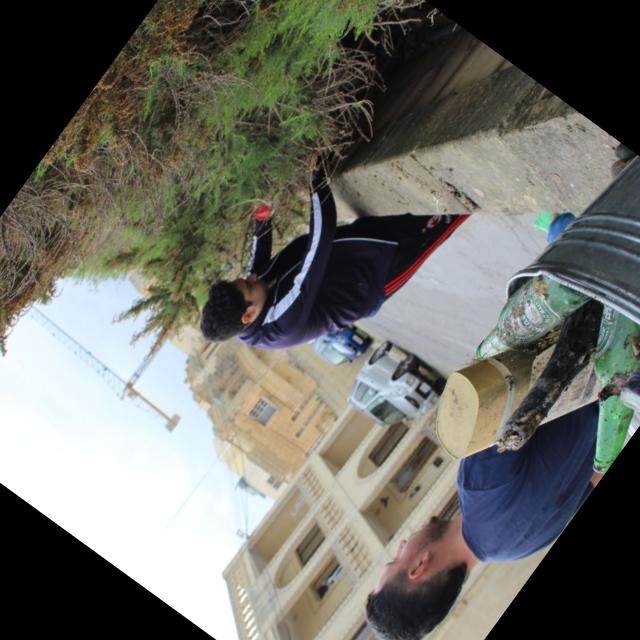Bottle: (431, 331, 555, 462), (499, 299, 603, 450), (473, 275, 593, 363), (590, 309, 640, 472), (525, 364, 599, 442), (618, 355, 640, 412)
Other plastic: (621, 410, 640, 450)
Plastic bag - wrapper: (532, 211, 561, 233)
